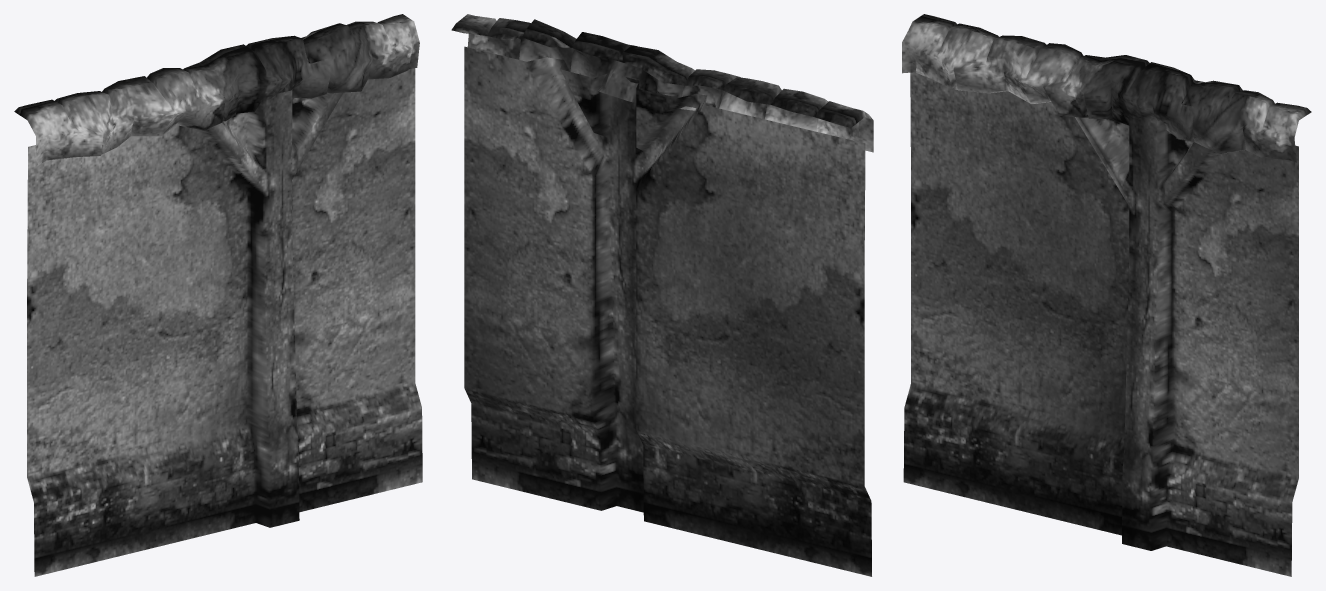
Rendered from StreetDeko_HouseWall_D.FBX.
3 renders of one model, left to right at view 1: azimuth 30°, elevation 25°; view 2: azimuth 150°, elevation 25°; view 3: azimuth 330°, elevation 25°, orthographic. The views are drawn at different scales.
Parts seen in each view (by area): view 1: Street_HouseWall_D; view 2: Street_HouseWall_D; view 3: Street_HouseWall_D.
Part boxes in pixels (left/top/right/bottom): Street_HouseWall_D: left=14, top=14, right=422, bottom=576; Street_HouseWall_D: left=451, top=14, right=873, bottom=576; Street_HouseWall_D: left=902, top=14, right=1311, bottom=576.
Size of the model in its own units: 400 by 461 by 58.4.
